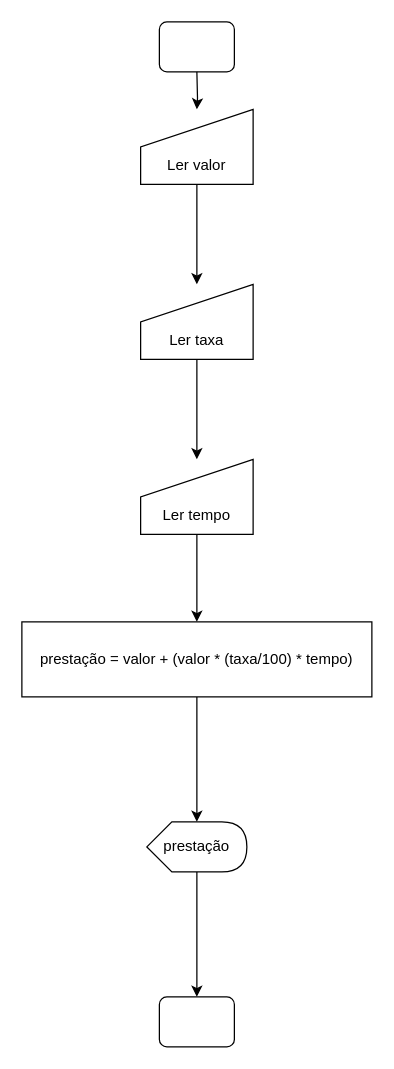
The diagram is 394 pixels wide and 1069 high, and some of its shapes have lost their labels. Each missing label, with the box of its shape:
Fim: (158, 996, 234, 1047)
Início: (158, 21, 234, 72)
